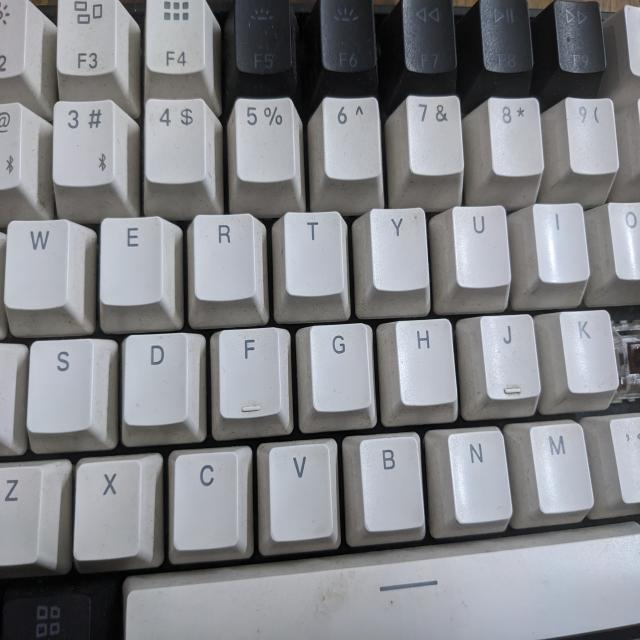C: (610, 319, 640, 384)
